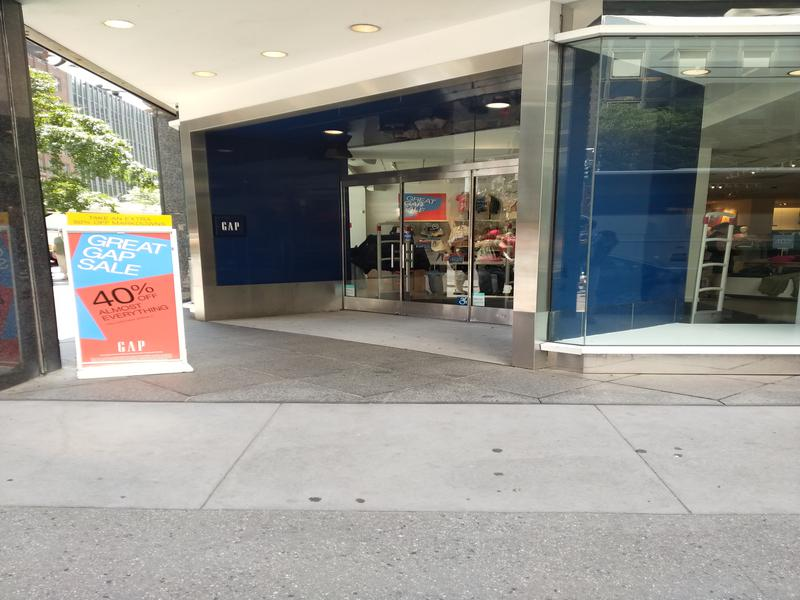double_door: (341, 175, 477, 321)
